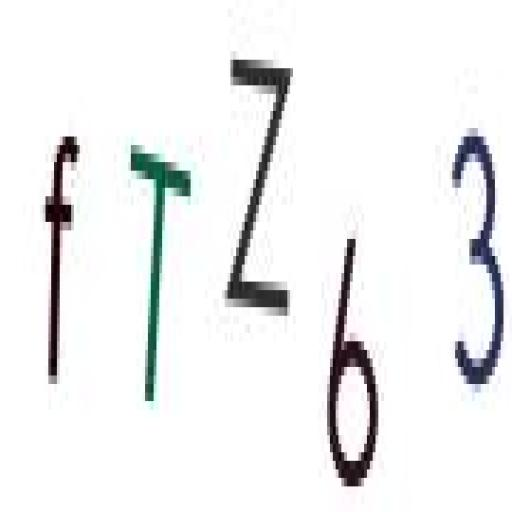3: (444, 115, 512, 411)
6: (321, 201, 384, 512)
T: (120, 125, 196, 414)
Z: (217, 31, 301, 354)
f: (38, 117, 83, 405)
